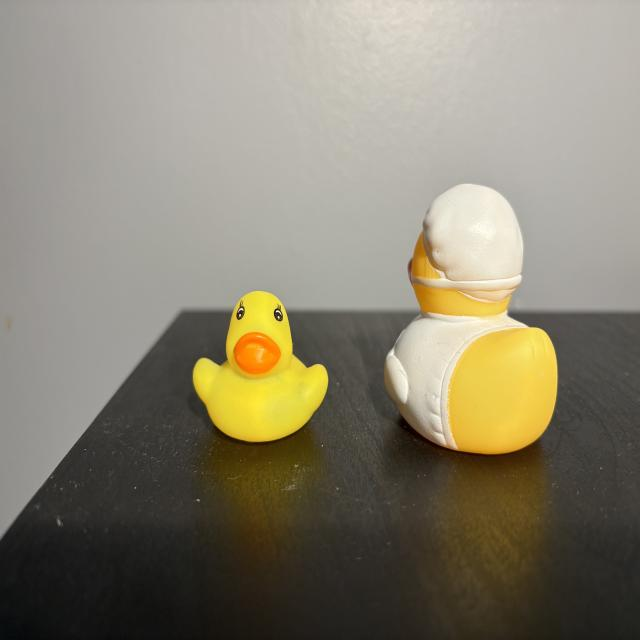duck_regular: (194, 293, 330, 443)
duck_specialty: (386, 184, 559, 455)
